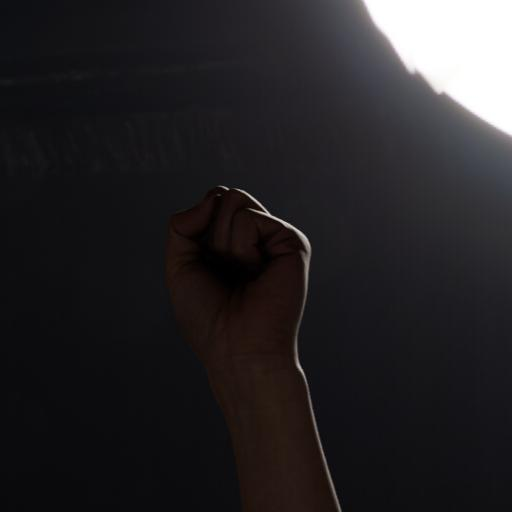S: (158, 178, 325, 499)
